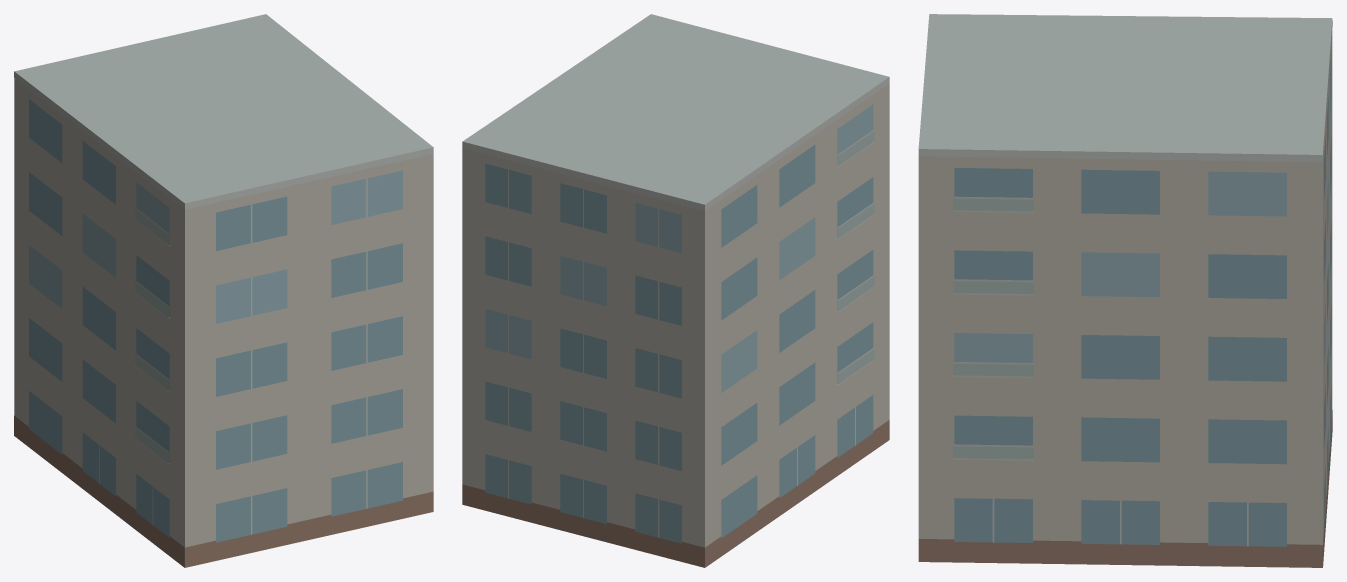
File: survey-upis-32878898.glb
3 renders of one model, left to right at view 1: azimuth 30°, elevation 25°; view 2: azimuth 150°, elevation 25°; view 3: azimuth 270°, elevation 25°, orthographic. The views are drawn at different scales.
Visible parts, largest first — view 1: survey-upis-32878898.tmp; view 2: survey-upis-32878898.tmp; view 3: survey-upis-32878898.tmp.
Part boxes in pixels (x1=…): survey-upis-32878898.tmp: x1=14, y1=14, x2=433, y2=567; survey-upis-32878898.tmp: x1=462, y1=14, x2=889, y2=567; survey-upis-32878898.tmp: x1=918, y1=14, x2=1332, y2=567.
Size of the model in its own units: 10.12 by 13.8 by 12.55.
